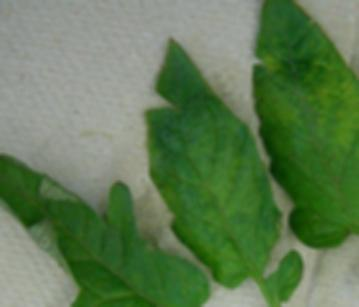Tomato leaf mosaic virus: (0, 135, 207, 307), (154, 37, 276, 281), (248, 0, 359, 260)
